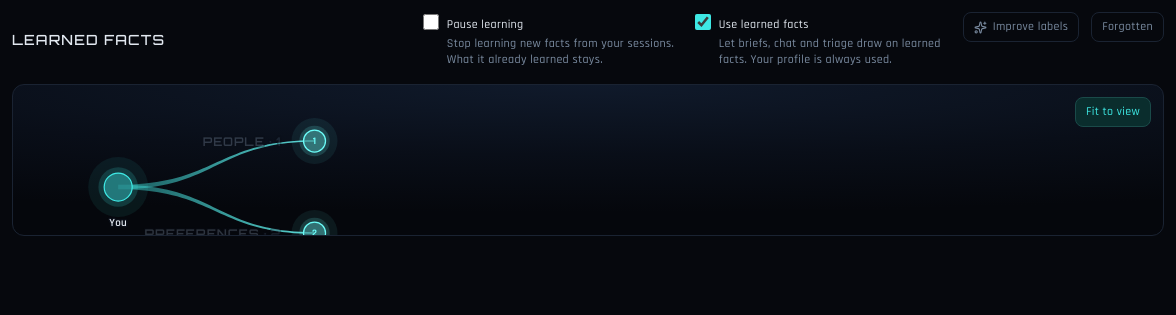
Test case: TwinMemoryGraph — pause learning kill-switch › pausing from the default pins "use learned facts" ON first, so pausing never costs the learned facts
This screenshot has width=1176, height=315.
Click the switch labelled "Pause learning".
click(431, 22)  # box [423,14,439,30]
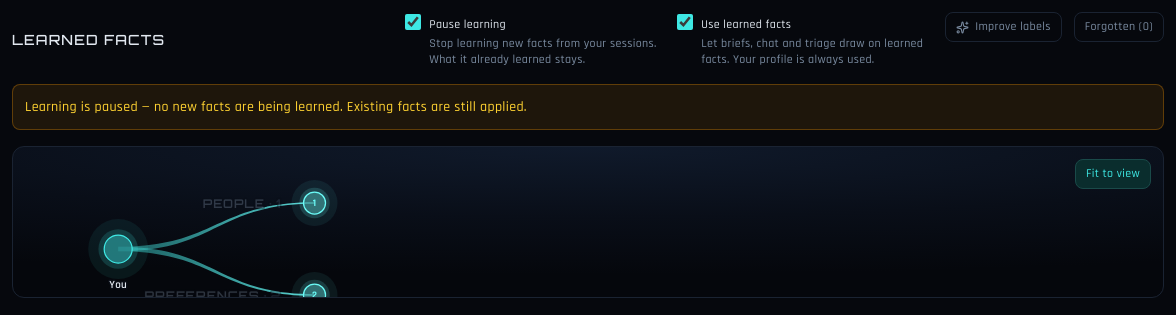
Expected: the switch labelled "Use learned facts" is checked, [677,14,693,30]
Expected: the switch labelled "Pause learning" is checked, [405,14,421,30]
Expected: the message shows "existing facts are still applied", [25,98,527,116]
